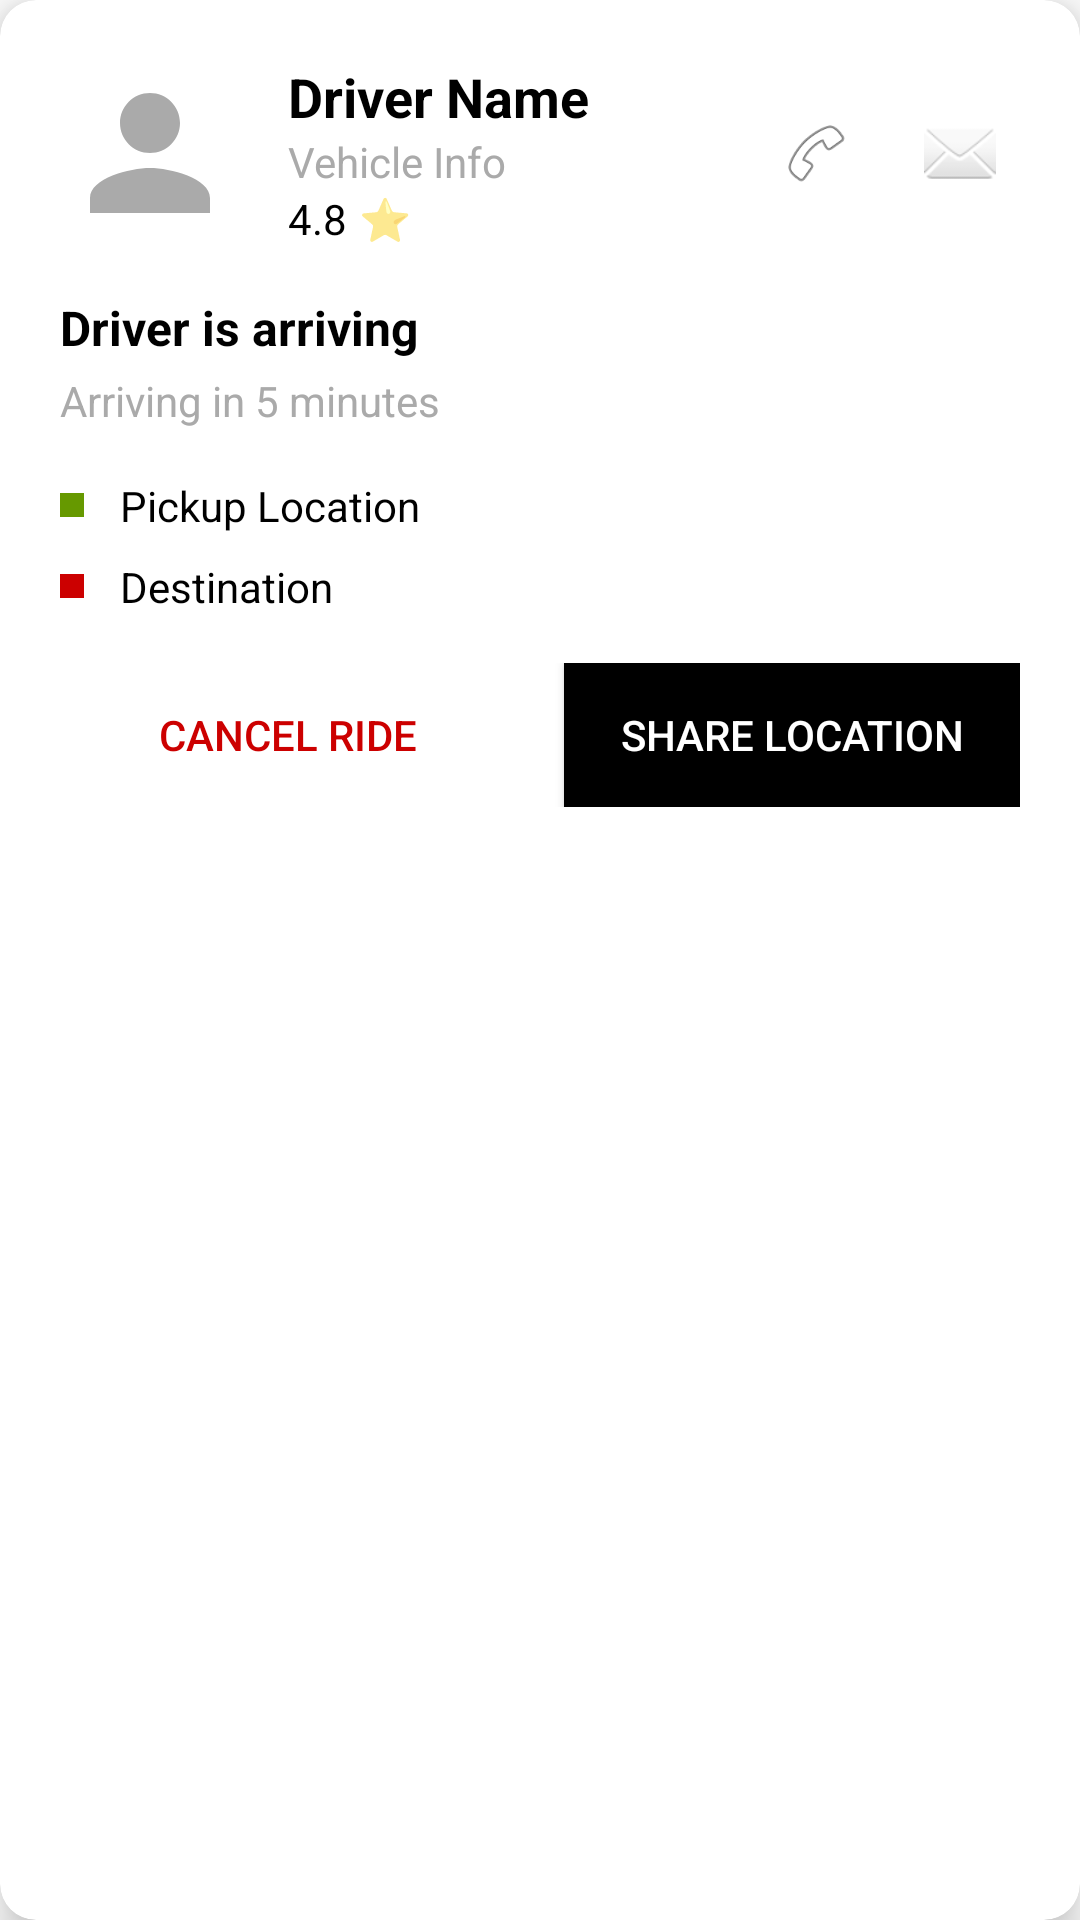

Screen size 1080×1920. Icon name, then its center in pixels as [x,y]:
Call Driver: [816,153]
Message Driver: [960,154]
person: [150,153]
